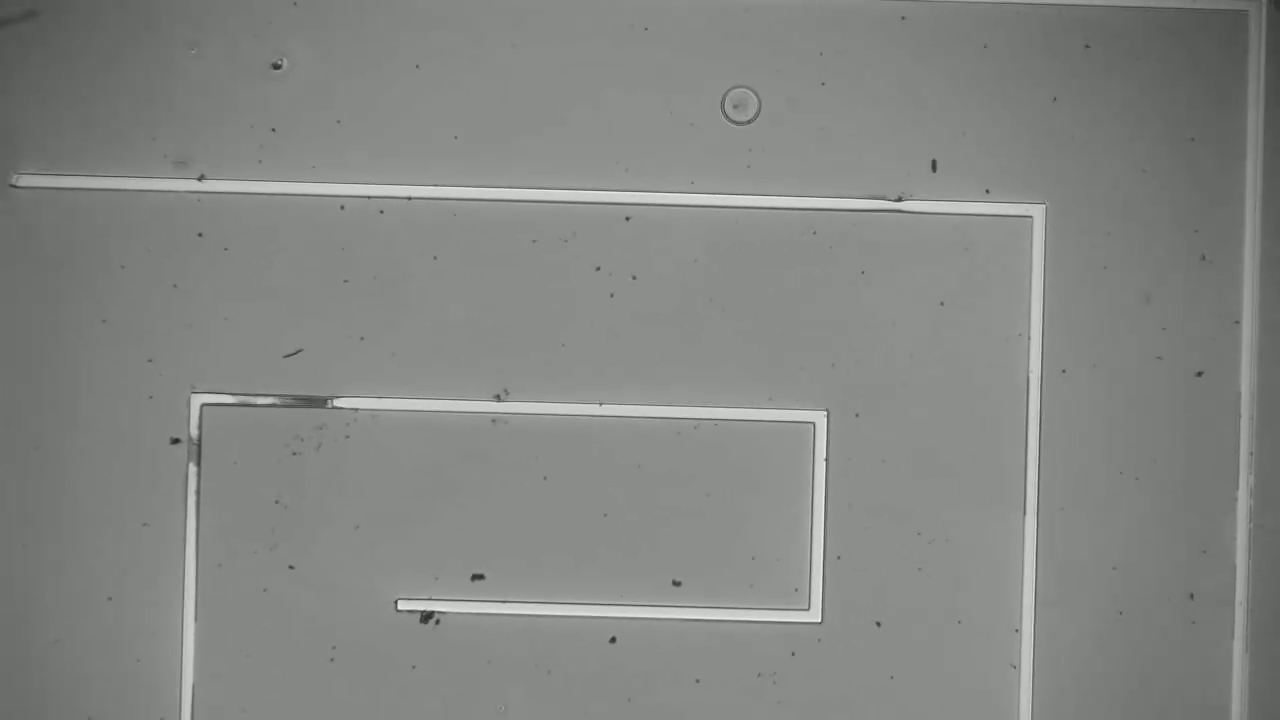gray_line: (254, 381, 354, 421), (175, 418, 222, 497)
